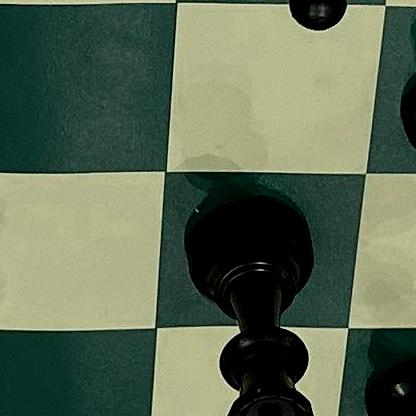black-pawn: (236, 0, 371, 50), (383, 62, 416, 239)
black-queen: (175, 195, 334, 416)
